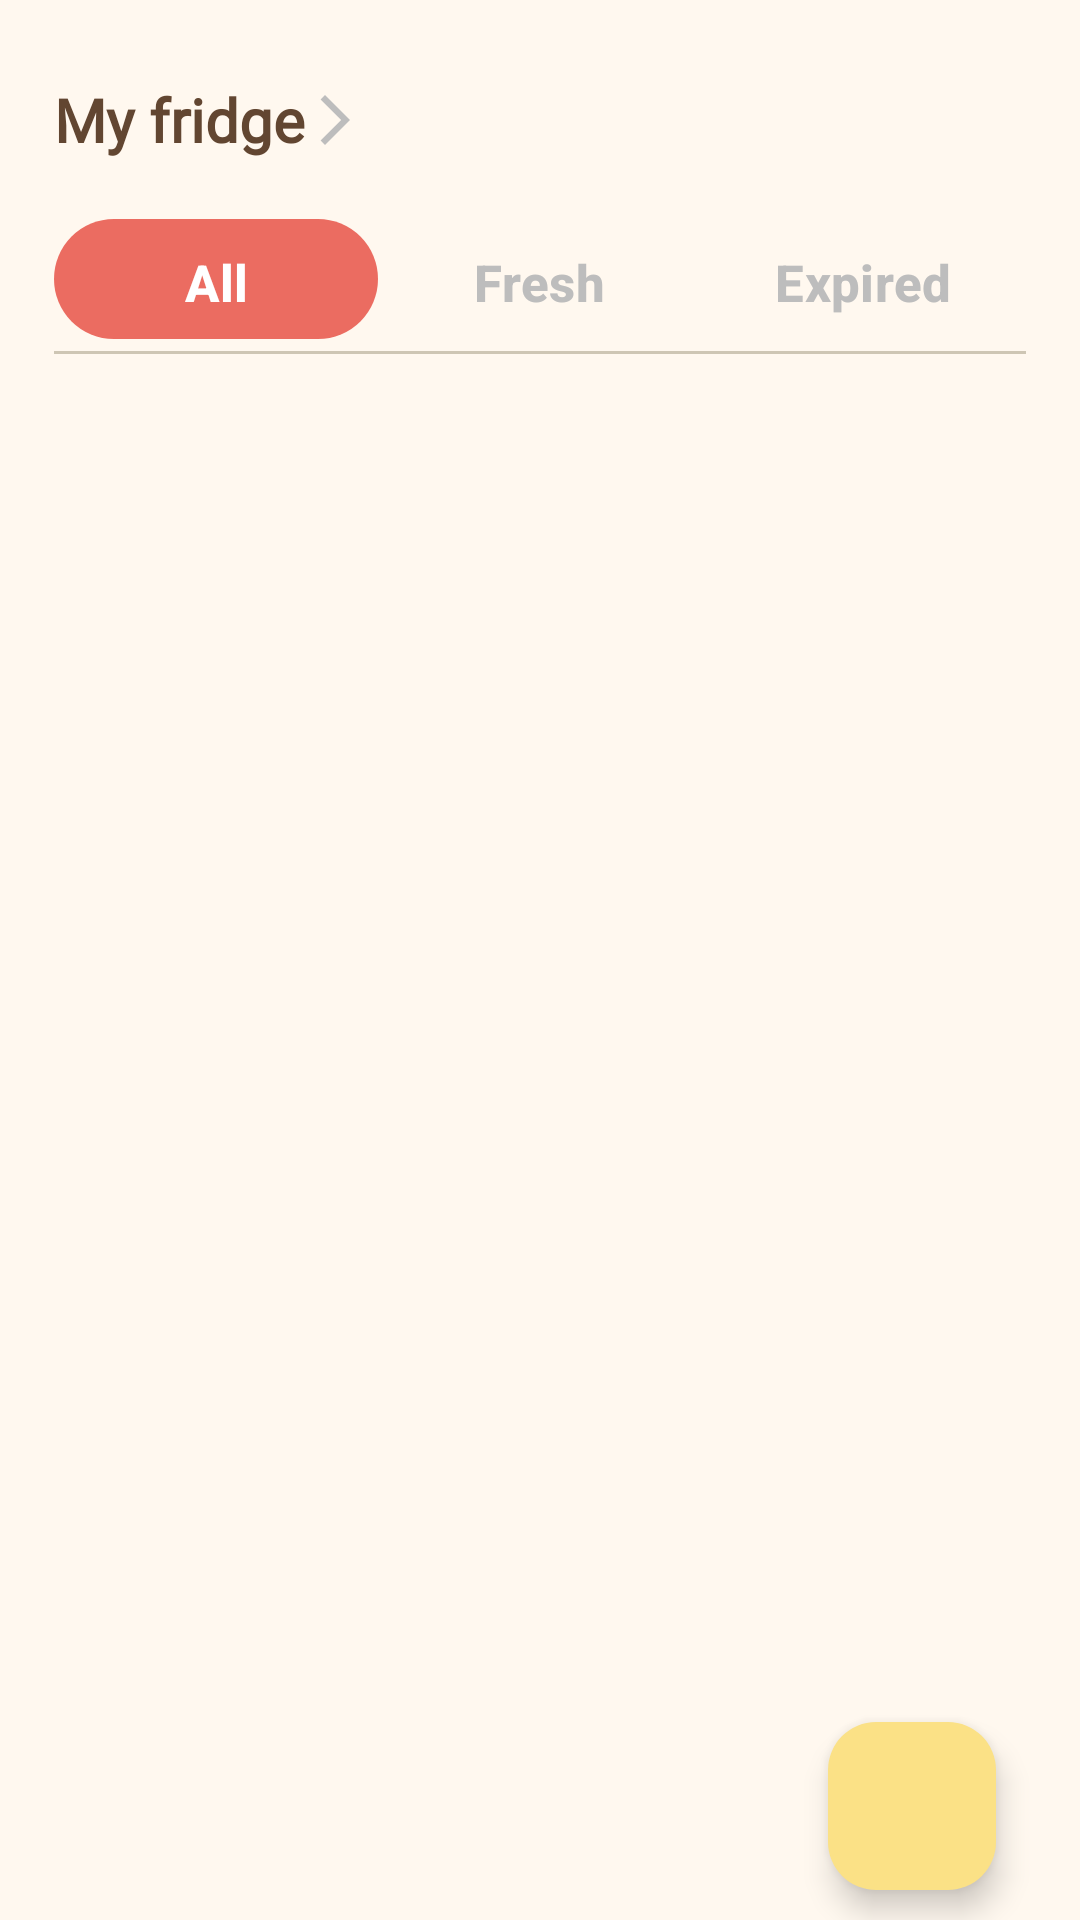

Point at icon controls on the screen. Image size 1080 x 1920, points as (x=x, y=y).
arrow forward: (x=335, y=120)
